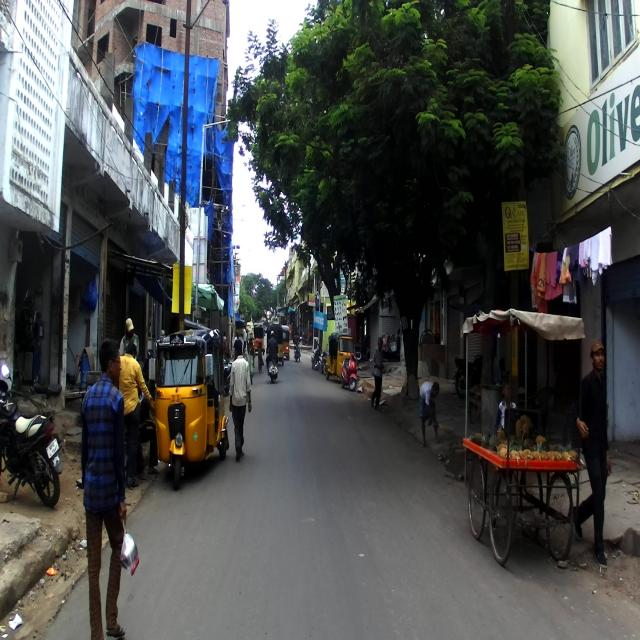autorickshaw: (154, 327, 230, 491)
motorcycle_Hero: (0, 364, 62, 508)
